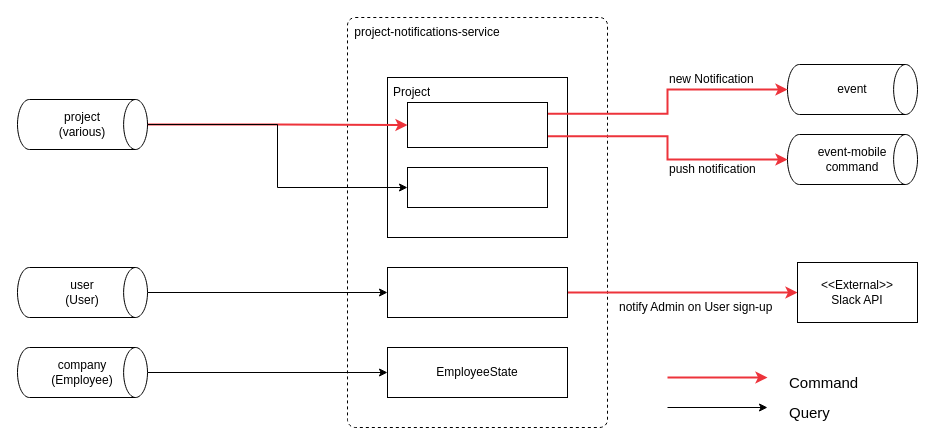
Some shapes in this 935 by 445 pixel diagram are drawn without their labels. The shapes that lost their labels are listed below. From the top down, each one's centre as x and y in pixels, then its label:
(x=477, y=125): Notifications
(x=477, y=187): ProjectState
(x=477, y=292): UserState
